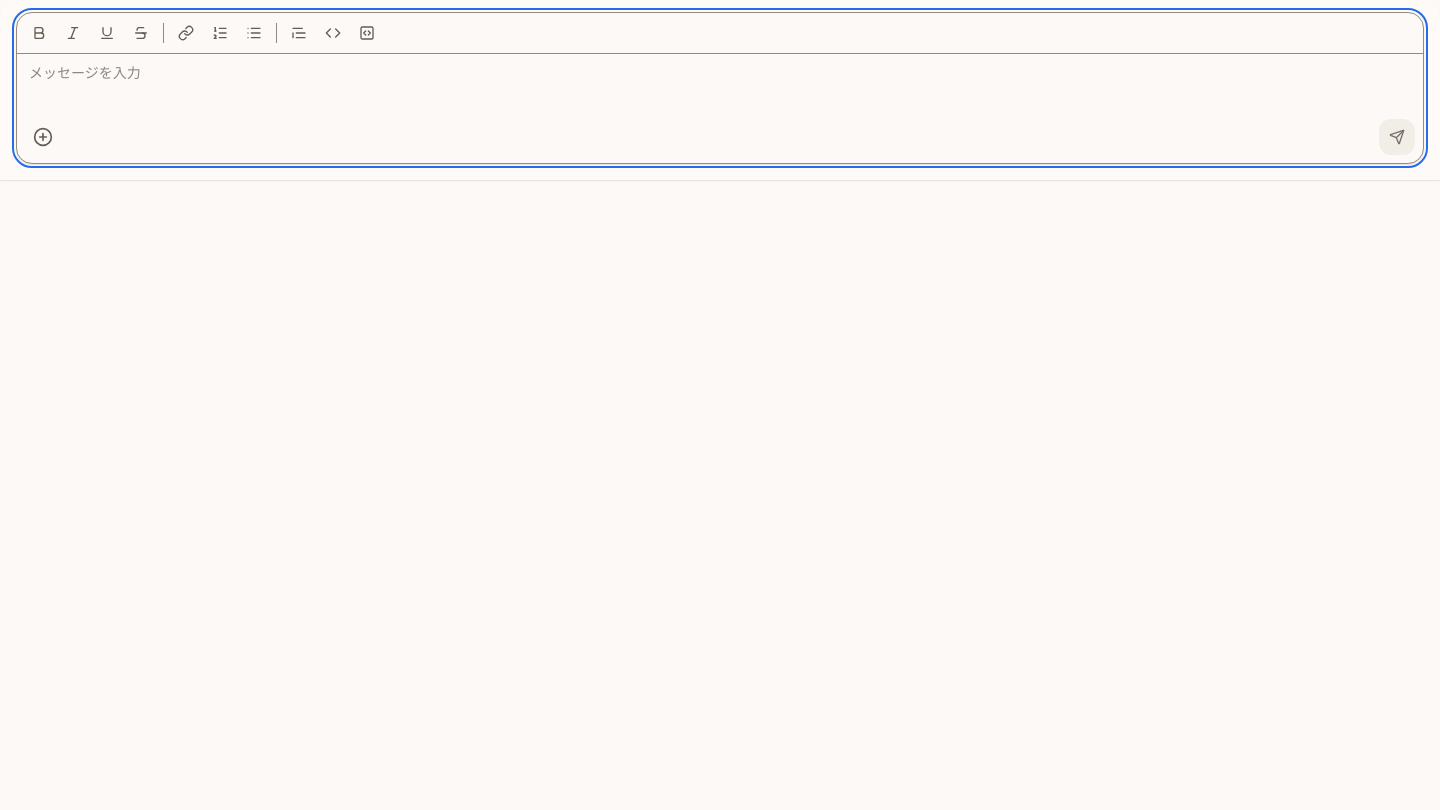
Test: Composer › rejects an 11th attachment
Click the button with test id "composer-attach": (43, 137) [25,119,61,155]
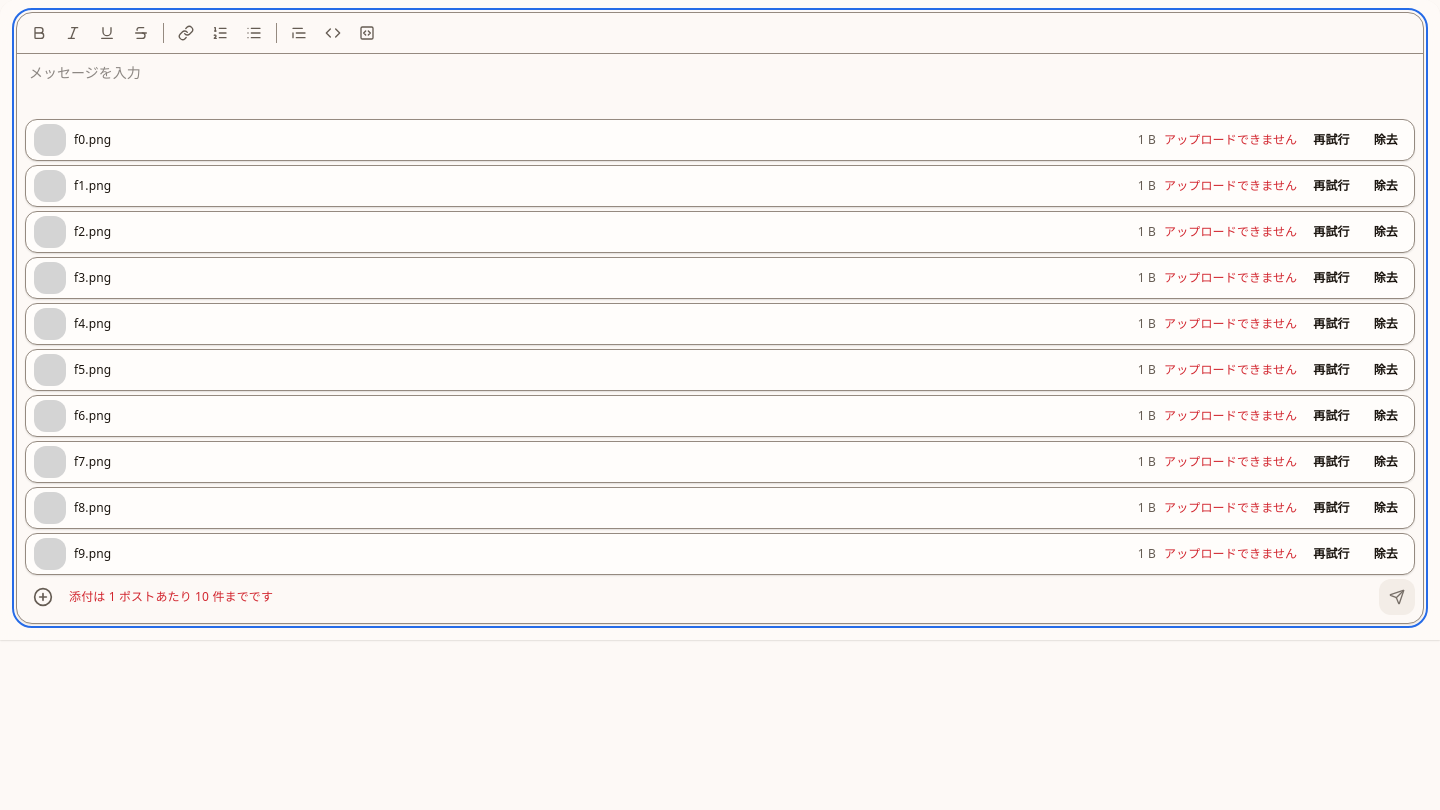
Now the text "添付は 1 ポストあたり 10 件までです" is shown, box [69,588,273,605]
